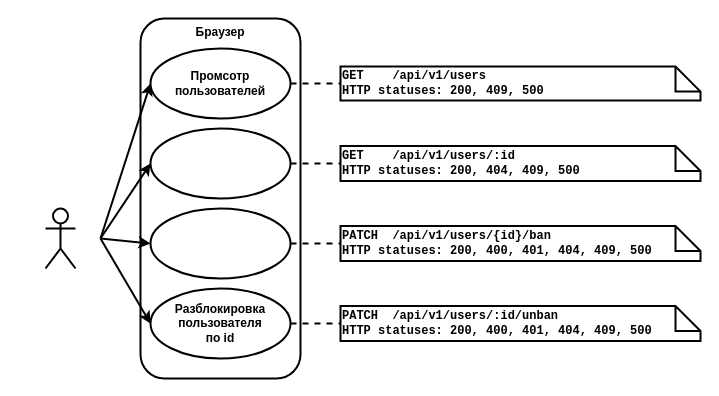
Some shapes in this 719 by 396 pixel diagram are drawn without their labels. The shapes that lost their labels are listed below. From the top down, each one's centre as x and y in pixels, then its label:
At point 220,163: "Просмотр пользователя по id".
At point 60,238: "Администратор".
At point 220,243: "Блокировка пользователя по id".
